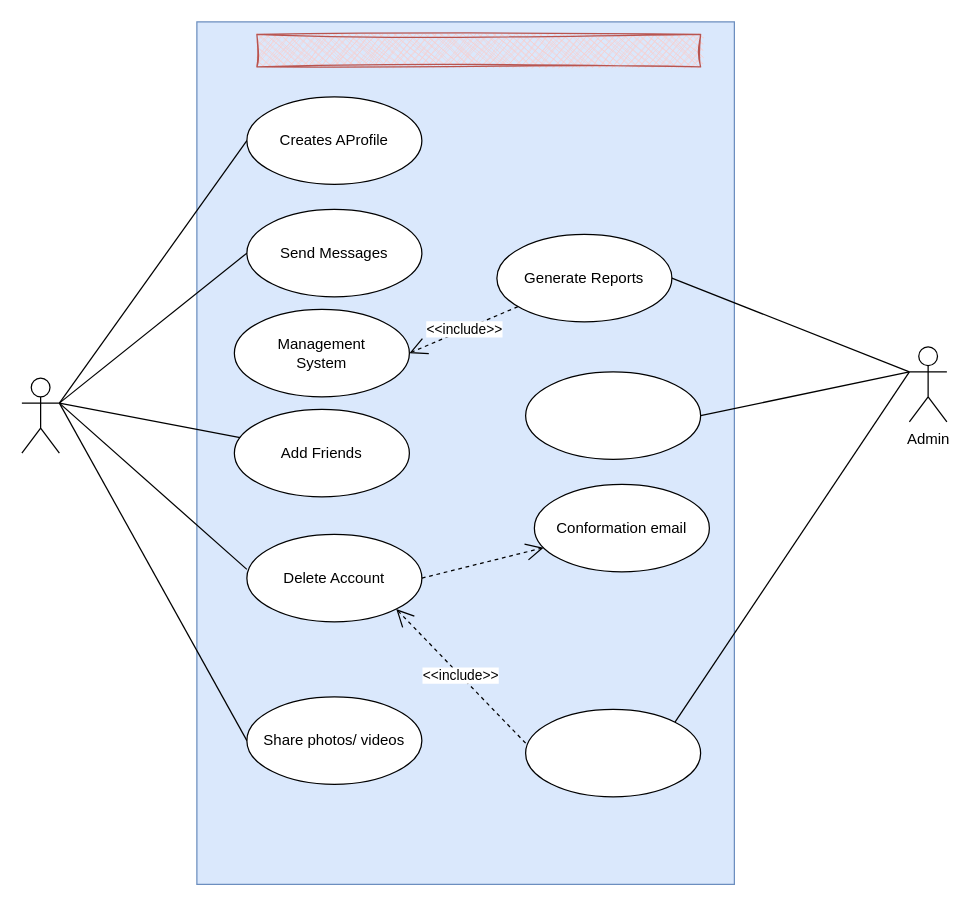
Image size: 971x906. Some labels were removed from this diagram. Each missing label, with the box of its shape:
Monitor Community Guidelines: (524, 708, 701, 797)
Remove/ Ban posts and users: (524, 371, 701, 459)
Use Case For Social Media: (256, 33, 701, 67)
User: (21, 377, 59, 453)
